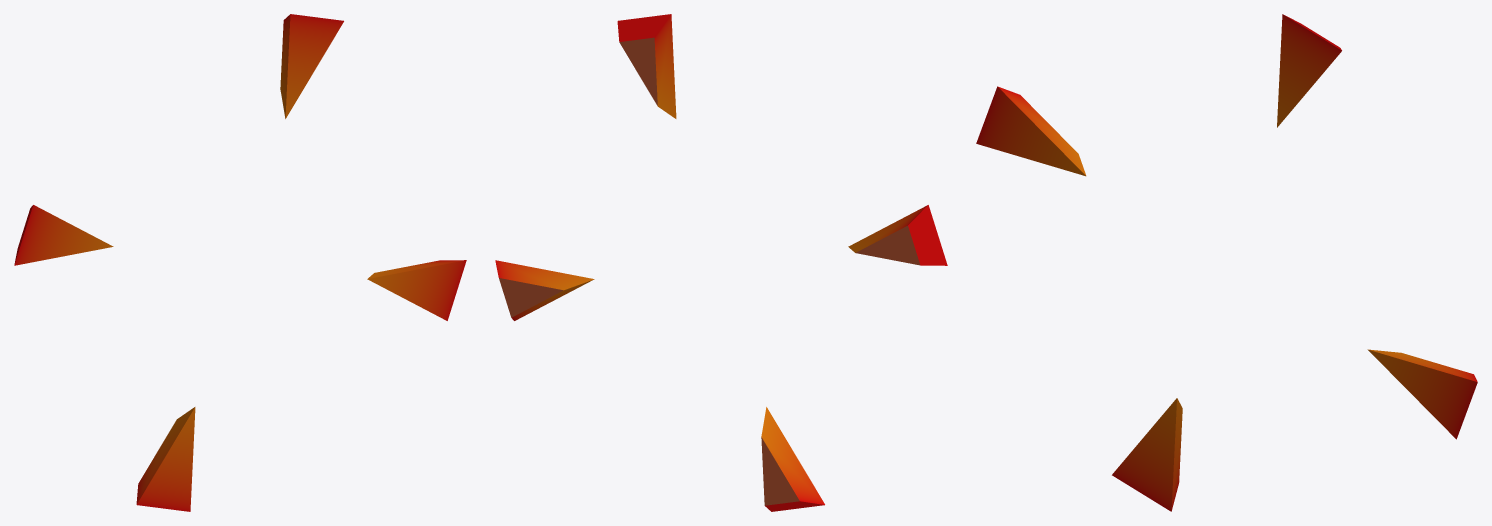
The model's file is fx_targetenemy.fbx.
The picture shows the model from 3 angles, left to right: view 1: azimuth 30°, elevation 25°; view 2: azimuth 150°, elevation 25°; view 3: azimuth 330°, elevation 25°; orthographic projection. The views are drawn at different scales.
Parts seen in each view (by area): view 1: fx_enemytarget; view 2: fx_enemytarget; view 3: fx_enemytarget.
Boxes of the visible parts, bbox=[...] form: fx_enemytarget: bbox=[14, 14, 466, 511]; fx_enemytarget: bbox=[495, 14, 947, 511]; fx_enemytarget: bbox=[976, 14, 1477, 511].
Bounding box in the file's own units: 9 × 9 × 0.4094.
